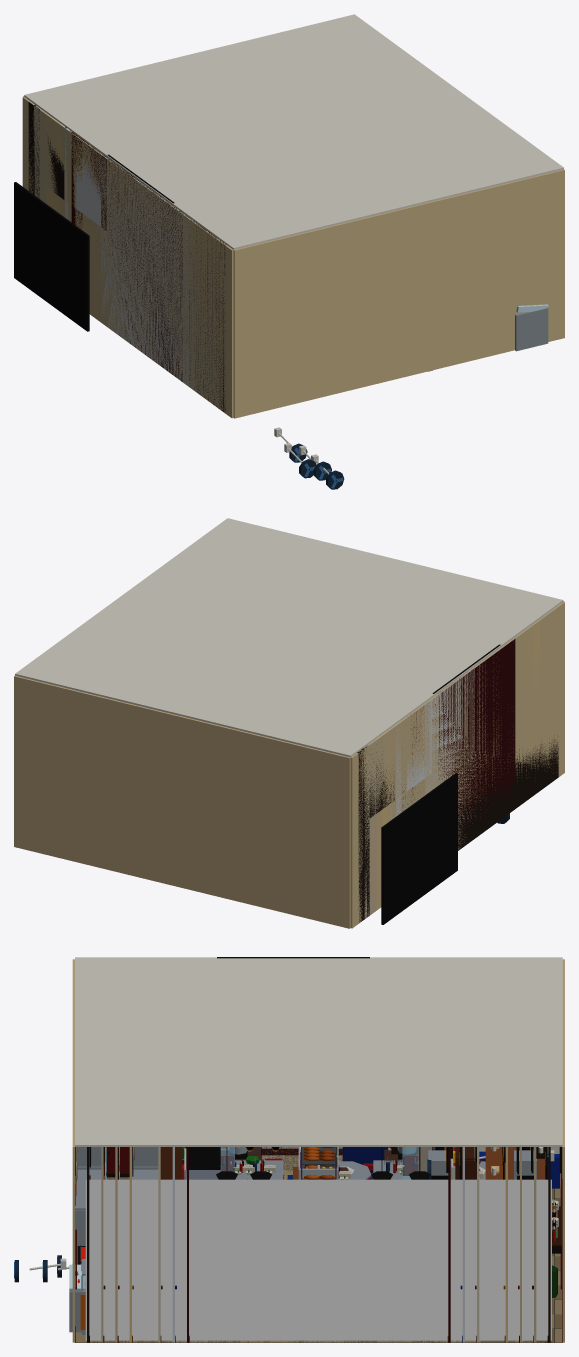
The model's file is OW_NoiThat_NoiBat.fbx.
The picture shows the model from 3 angles, top to bottom: view 1: azimuth 30°, elevation 25°; view 2: azimuth 150°, elevation 25°; view 3: azimuth 270°, elevation 25°; orthographic projection. The views are drawn at different scales.
Parts seen in each view (by area): view 1: NT_F_4006, NT_F_4001, NT_F_4012, NT_F_4000, NT_F_4002, NT_F_4005, NT_F_4007, NT_F_4013, NT_F_4011; view 2: NT_F_4006, NT_F_4012, NT_F_4000, NT_F_4001, NT_F_4002, NT_F_4005, NT_F_4013, NT_F_4007; view 3: NT_F_4006, NT_F_4000, NT_F_4000_Xa, NT_F_4001, NT_F_4001_Xa, NT_F_4006_Xa, NT_F_4002, NT_F_4002_Xa, NT_F_4012, NT_F_4007_Xa, NT_F_4005, NT_F_4007 (+9 smaller).
Part boxes in pixels (x1,y1,x2,y2): NT_F_4006: (14,14,564,489); NT_F_4001: (50,41,468,390); NT_F_4012: (20,19,557,413); NT_F_4000: (26,23,551,480); NT_F_4002: (57,46,514,386); NT_F_4005: (63,51,512,381); NT_F_4007: (38,33,383,392); NT_F_4013: (32,31,544,478); NT_F_4011: (515,304,548,351); NT_F_4006: (14,518,564,928); NT_F_4012: (21,522,558,922); NT_F_4000: (56,527,551,918); NT_F_4001: (52,546,466,892); NT_F_4002: (159,551,519,892); NT_F_4005: (129,555,515,874); NT_F_4013: (122,532,509,913); NT_F_4007: (59,537,539,909); NT_F_4006: (14,957,564,1342); NT_F_4000: (42,957,536,1342); NT_F_4000_Xa: (114,1179,523,1340); NT_F_4001: (158,957,479,1342); NT_F_4001_Xa: (171,1179,466,1340); NT_F_4006_Xa: (85,1179,551,1340); NT_F_4002: (172,957,464,1342); NT_F_4002_Xa: (185,1179,451,1340); NT_F_4012: (87,957,550,1342); NT_F_4007_Xa: (143,1179,494,1340); NT_F_4005: (187,957,450,1342); NT_F_4007: (129,957,507,1342).
Size of the model in its own units: 8.28 by 5.44 by 9.65.
